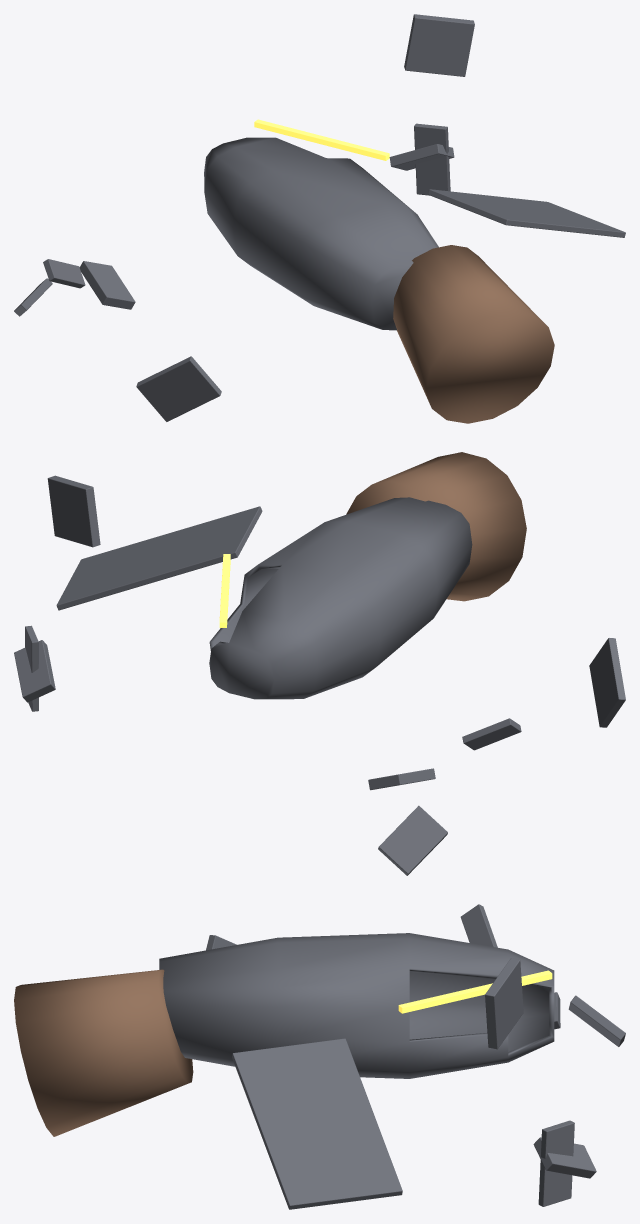
File: wreck.glb
3 views of the same model, one above another, from view 1: azimuth 30°, elevation 25°; view 2: azimuth 150°, elevation 25°; view 3: azimuth 270°, elevation 25° (orthographic). The views are drawn at different scales.
Visible parts, largest first — view 1: main, engine, wing, scrap, scrap.007, scrap.003, scrap.002, gash, scrap.004, scrap.005; view 2: main, engine, wing, scrap, scrap.006, scrap.007, scrap.004, scrap.005, scrap.002, scrap.003, gash; view 3: main, engine, wing, scrap, scrap.003, scrap.004, gash, scrap.006, scrap.005.
Part boxes in pixels (x1,y1,x2,y2): main: [204, 137, 438, 330]; engine: [393, 245, 554, 423]; wing: [428, 189, 625, 237]; scrap: [404, 14, 474, 76]; scrap.007: [136, 356, 221, 421]; scrap.003: [414, 123, 450, 195]; scrap.002: [79, 261, 135, 309]; gash: [254, 119, 389, 160]; scrap.004: [389, 144, 454, 170]; scrap.005: [43, 259, 85, 288]; main: [209, 497, 472, 699]; engine: [346, 452, 526, 601]; wing: [56, 506, 262, 610]; scrap: [47, 475, 100, 547]; scrap.006: [378, 805, 447, 875]; scrap.007: [589, 638, 625, 727]; scrap.004: [14, 640, 55, 702]; scrap.005: [462, 718, 521, 750]; scrap.002: [368, 768, 435, 790]; scrap.003: [25, 625, 38, 711]; gash: [219, 554, 230, 627]; main: [159, 933, 554, 1078]; engine: [14, 969, 193, 1136]; wing: [232, 1038, 402, 1209]; scrap: [485, 958, 523, 1049]; scrap.003: [538, 1120, 574, 1206]; scrap.004: [533, 1137, 596, 1178]; gash: [398, 970, 552, 1013]; scrap.006: [568, 995, 625, 1046]; scrap.005: [460, 904, 497, 947].
Bounding box in the file's own units: 9.8 × 4.64 × 9.29.
